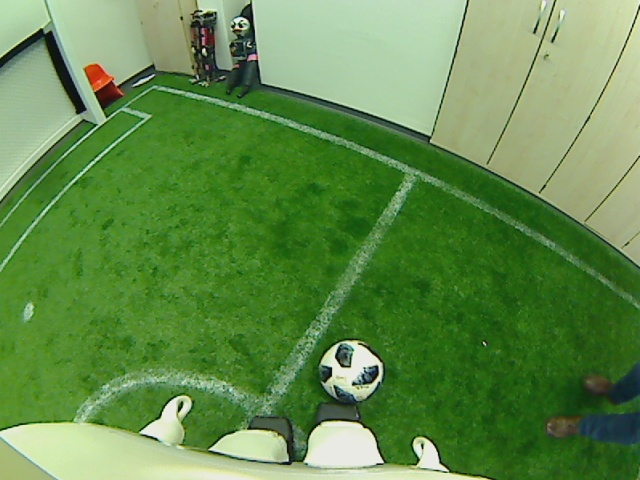ball: (314, 339, 385, 406)
